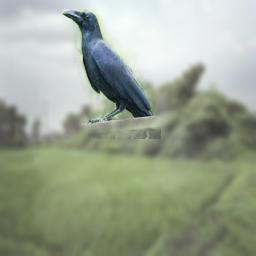Crow: (62, 9, 161, 139)
